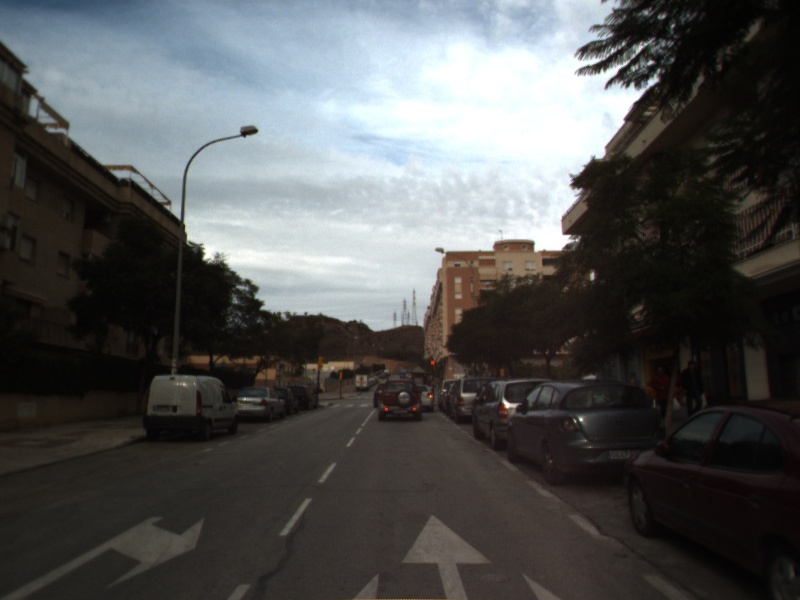STRAIGHT: (399, 513, 495, 600)
